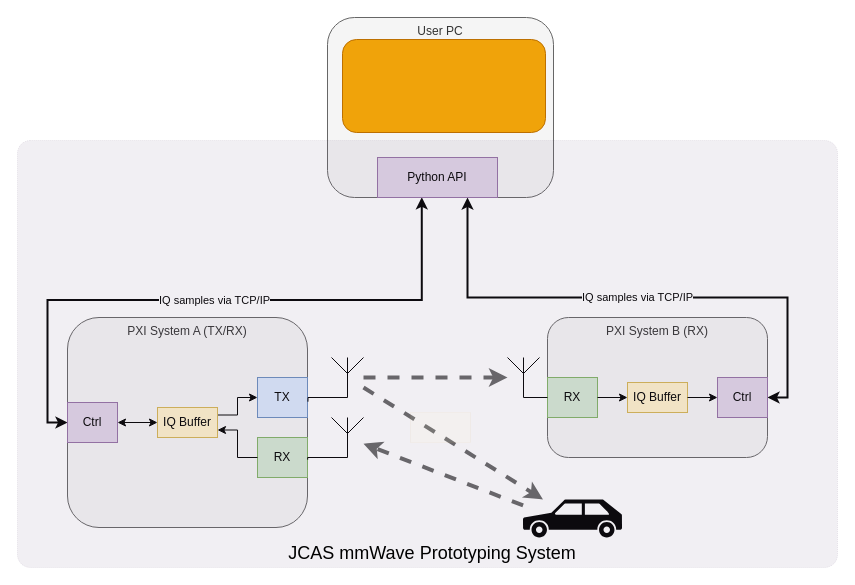
Some shapes in this 855 by 585 pixel diagram are drawn without their labels. The centre of each missing label's shape, as x and y in pixels:
75GHz: point (440, 427)
Custom IQ sample signal procesing: point (444, 85)
